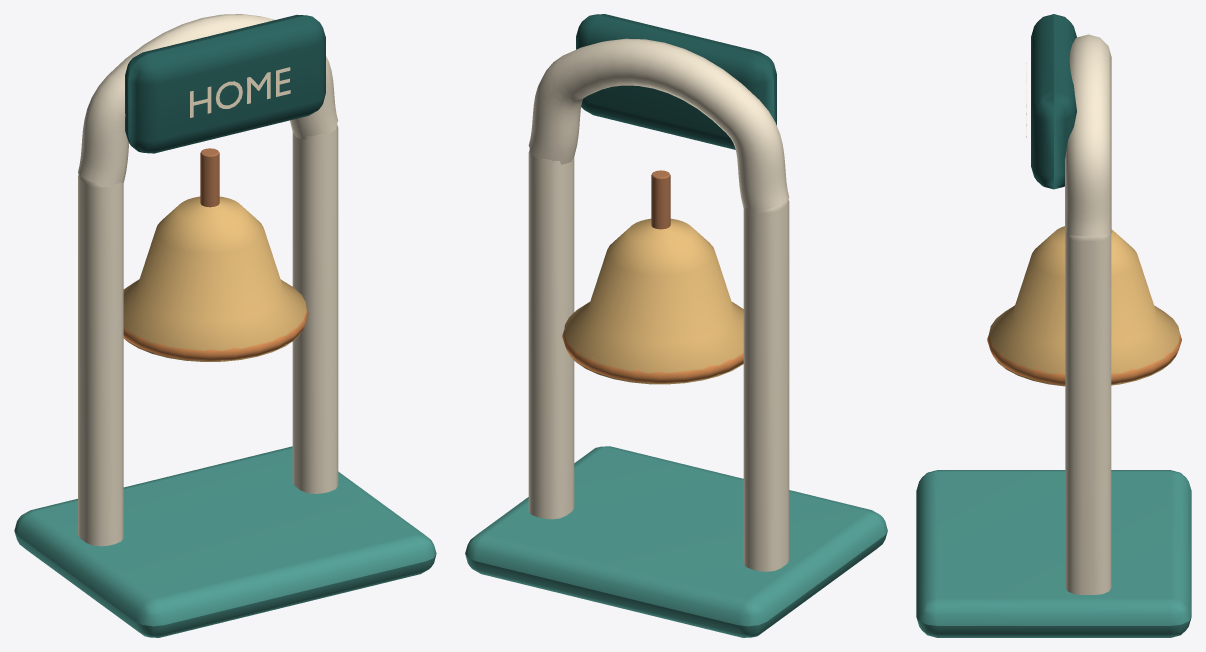
Rendered from exit_bell.glb.
The picture shows the model from 3 angles, left to right: view 1: azimuth 30°, elevation 25°; view 2: azimuth 150°, elevation 25°; view 3: azimuth 270°, elevation 25°; orthographic projection.
Parts seen in each view (by area): view 1: exit_bell_mesh; view 2: exit_bell_mesh; view 3: exit_bell_mesh.
Part boxes in pixels (x1,y1,x2,y2): exit_bell_mesh: (14,14,436,637); exit_bell_mesh: (465,14,887,637); exit_bell_mesh: (916,14,1191,637).
Size of the model in its own units: 0.89 by 1.51 by 0.72.
